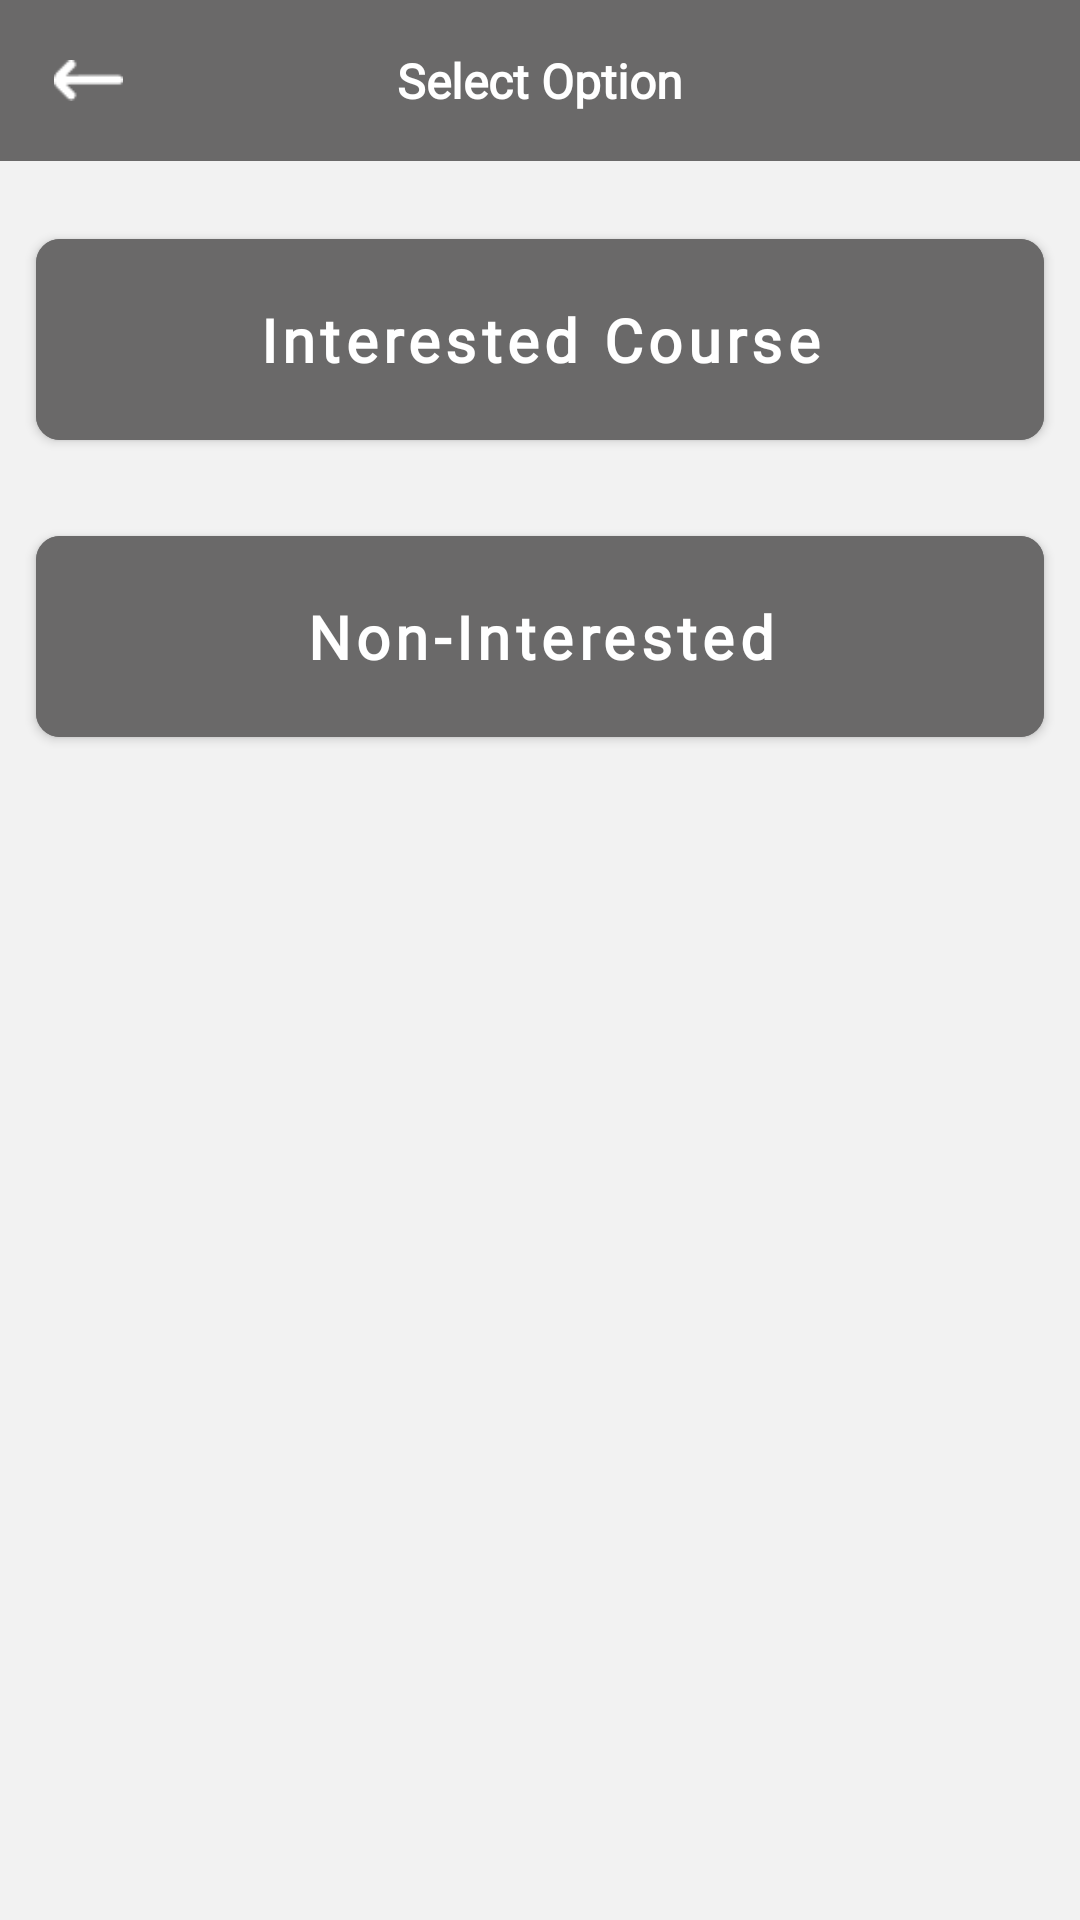

Screen size 1080px x 1920px. Icon name, then its box in pixels as (x1, y1, x2, y2):
arrow left: (54, 60, 123, 101)
